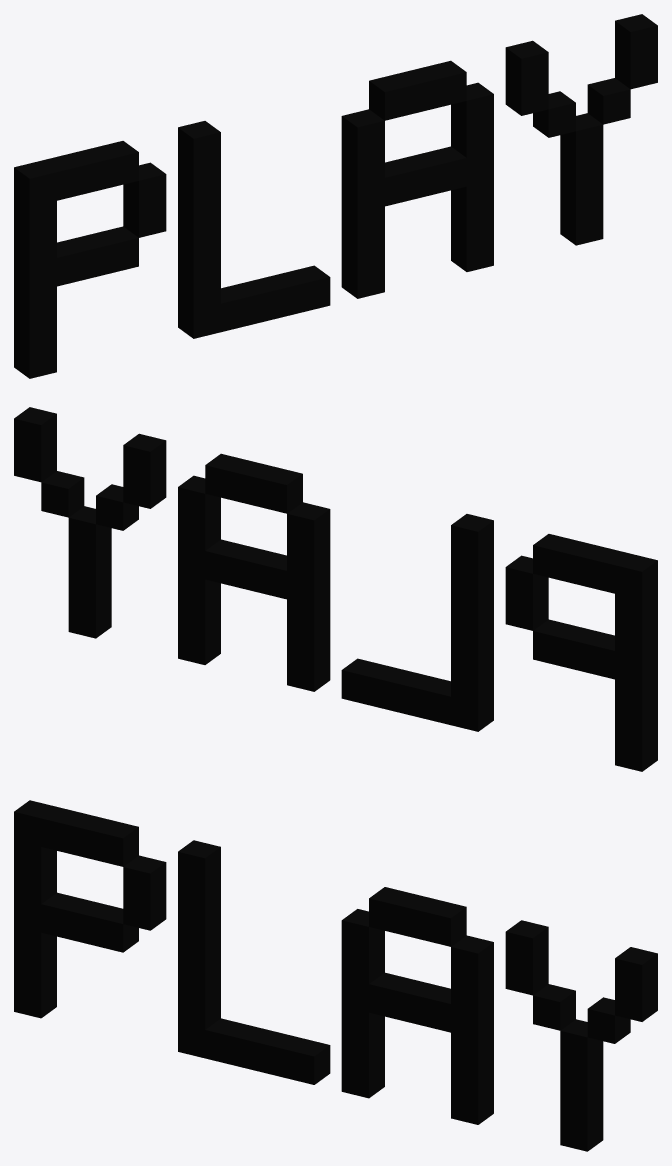
File: play_text.obj
3 views of the same model, one above another, from view 1: azimuth 30°, elevation 25°; view 2: azimuth 150°, elevation 25°; view 3: azimuth 330°, elevation 25° (orthographic).
Size of the model in its own units: 2.3 by 0.7 by 0.1.
1 material, 1 textured.
